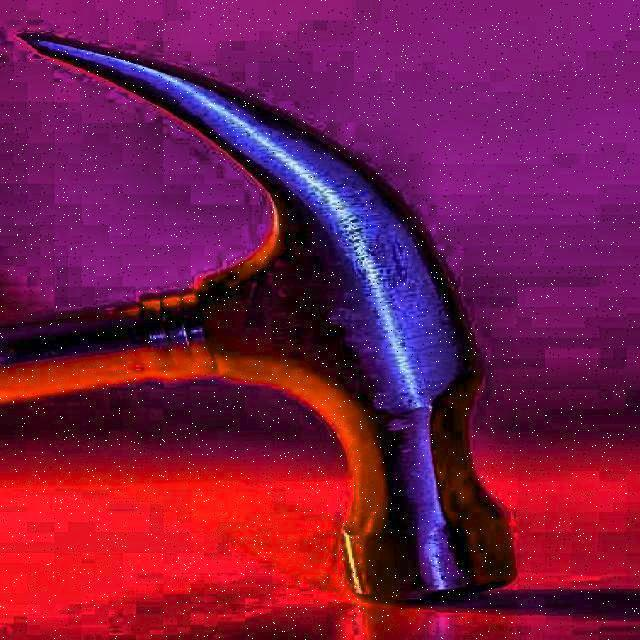hammer: (0, 28, 520, 604)
